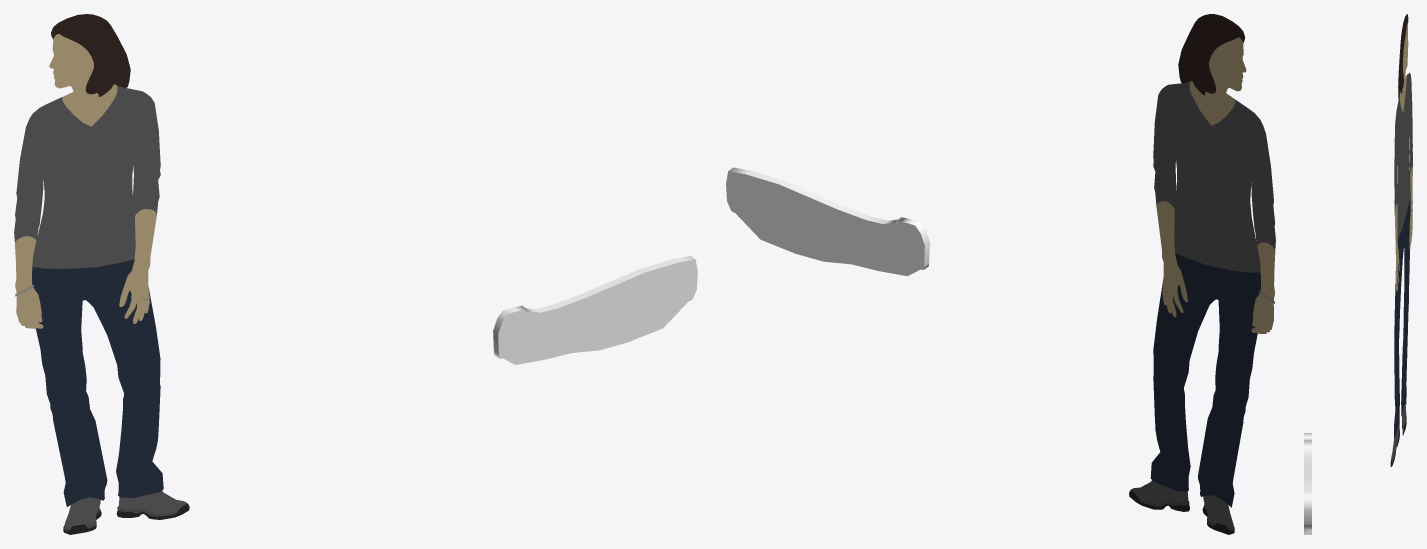
The model's file is boca.dae.
The picture shows the model from 3 angles, left to right: view 1: azimuth 30°, elevation 25°; view 2: azimuth 150°, elevation 25°; view 3: azimuth 270°, elevation 25°; orthographic projection. The views are drawn at different scales.
Visible parts, largest first — view 1: Susan (×9), SketchUp; view 2: Susan (×9), SketchUp; view 3: Susan (×5), SketchUp.
Boxes of the visible parts, x1=… form: Susan (×9): x1=14, y1=14, x2=187, y2=527; SketchUp: x1=493, y1=256, x2=697, y2=364; Susan (×9): x1=1131, y1=14, x2=1275, y2=527; SketchUp: x1=726, y1=167, x2=929, y2=276; Susan (×5): x1=1394, y1=14, x2=1412, y2=437; SketchUp: x1=1304, y1=433, x2=1311, y2=534.
Bounding box in the file's own units: 82.68 × 15.9 × 66.6.
